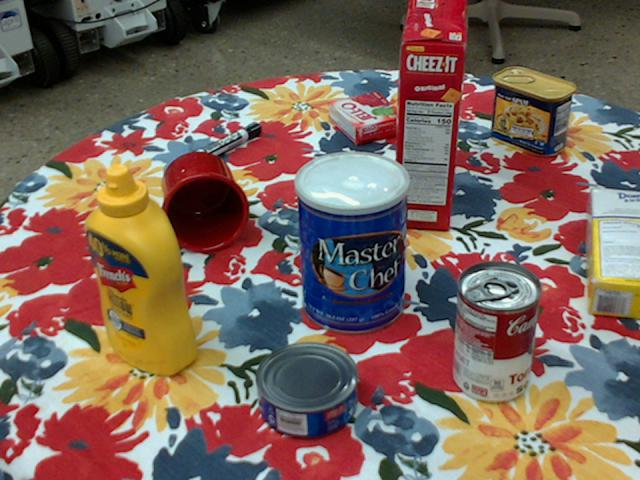cracker_box: (394, 0, 466, 229)
gelatin_box: (326, 91, 405, 145)
large_marker: (185, 120, 259, 166)
master_chef_can: (293, 151, 408, 335)
mug: (145, 151, 249, 254)
mustard_bottle: (83, 164, 198, 374)
potted_meat_can: (491, 66, 576, 155)
sugar_box: (586, 187, 639, 318)
tomato_soup_can: (453, 260, 540, 403)
tuna_fish_can: (252, 341, 355, 438)
